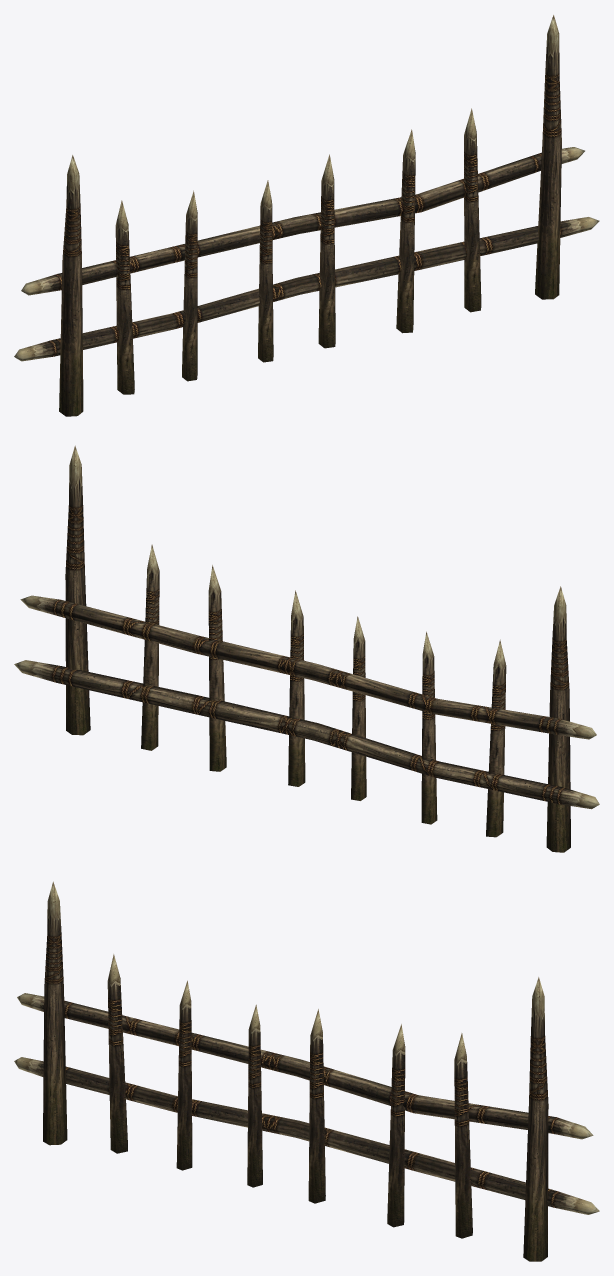
File: gaint_fence05.fbx
3 renders of one model, top to bottom at view 1: azimuth 30°, elevation 25°; view 2: azimuth 150°, elevation 25°; view 3: azimuth 330°, elevation 25°, orthographic.
Visible parts, largest first — view 1: gaint_fence05; view 2: gaint_fence05; view 3: gaint_fence05.
Part boxes in pixels (bbox=[...]): gaint_fence05: bbox=[14, 15, 599, 416]; gaint_fence05: bbox=[14, 445, 599, 852]; gaint_fence05: bbox=[14, 881, 599, 1261].
Size of the model in its own units: 9.78 by 4.52 by 0.618.
